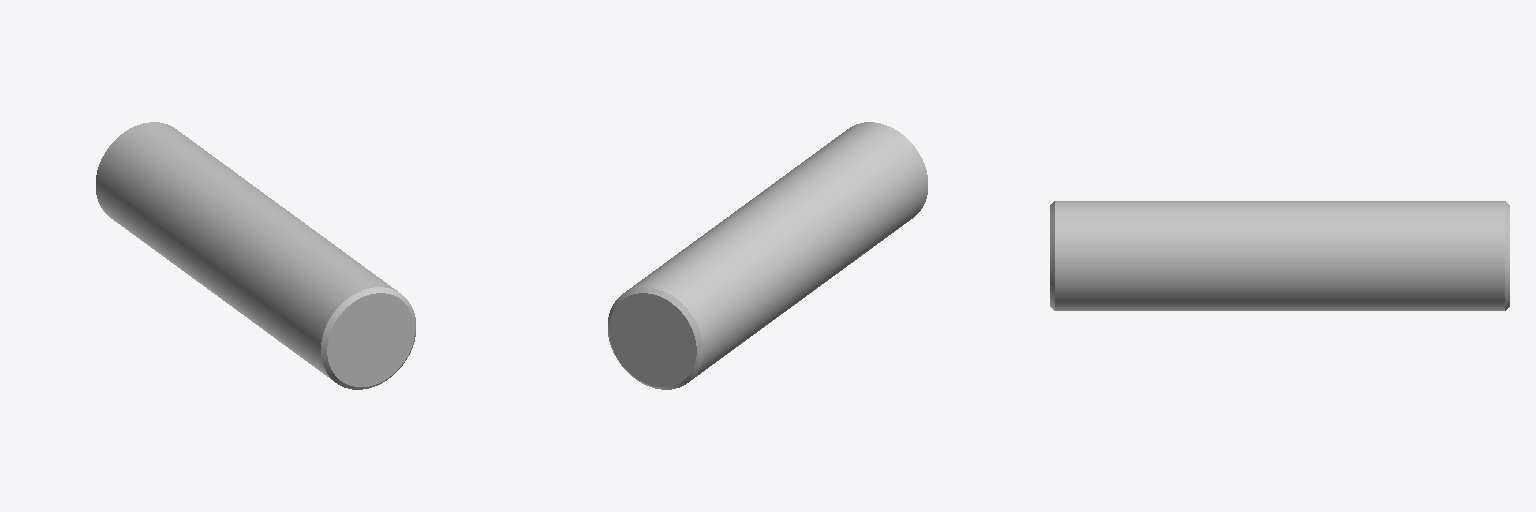
Rendered from factory_round_peg_12mm_tight.obj.
3 renders of one model, left to right at view 1: azimuth 30°, elevation 25°; view 2: azimuth 150°, elevation 25°; view 3: azimuth 270°, elevation 25°, orthographic.
Parts seen in each view (by area): view 1: mesh2, mesh0, mesh1; view 2: mesh2, mesh4, mesh3; view 3: mesh2, mesh1, mesh3.
Part boxes in pixels (x1,y1,x2,y2): mesh2: (96, 122, 397, 379); mesh0: (327, 293, 414, 386); mesh1: (321, 287, 415, 389); mesh2: (626, 122, 927, 379); mesh4: (609, 293, 696, 386); mesh3: (608, 287, 702, 389); mesh2: (1055, 201, 1504, 310); mesh1: (1050, 201, 1054, 310); mesh3: (1505, 201, 1509, 310).
Bounding box in the file's own units: 0.012 × 0.012 × 0.05.